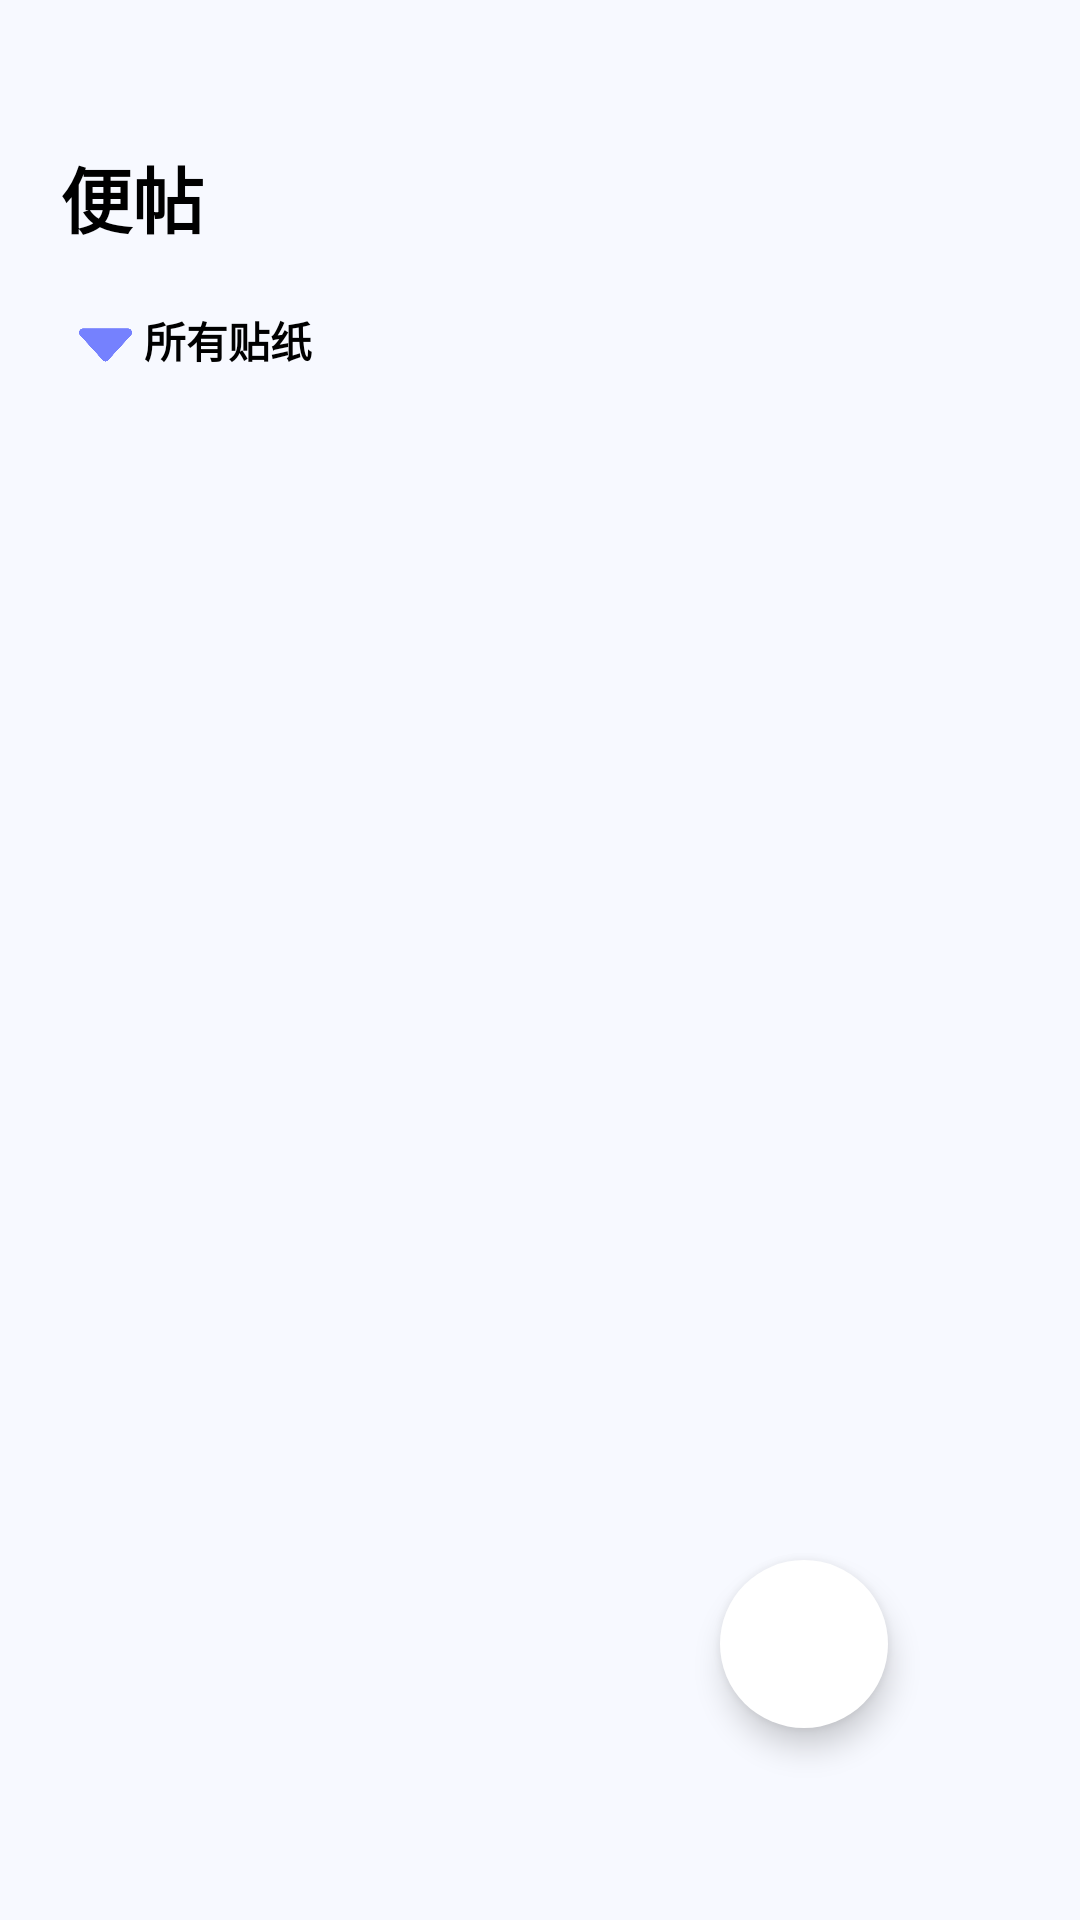

Locate icon controls on the screen. Image size 1080px×1920px, boxes as {"x1": x1, "y1": y1, "x2": x2, "y2": y2}.
pull down: {"x1": 79, "y1": 328, "x2": 132, "y2": 362}
